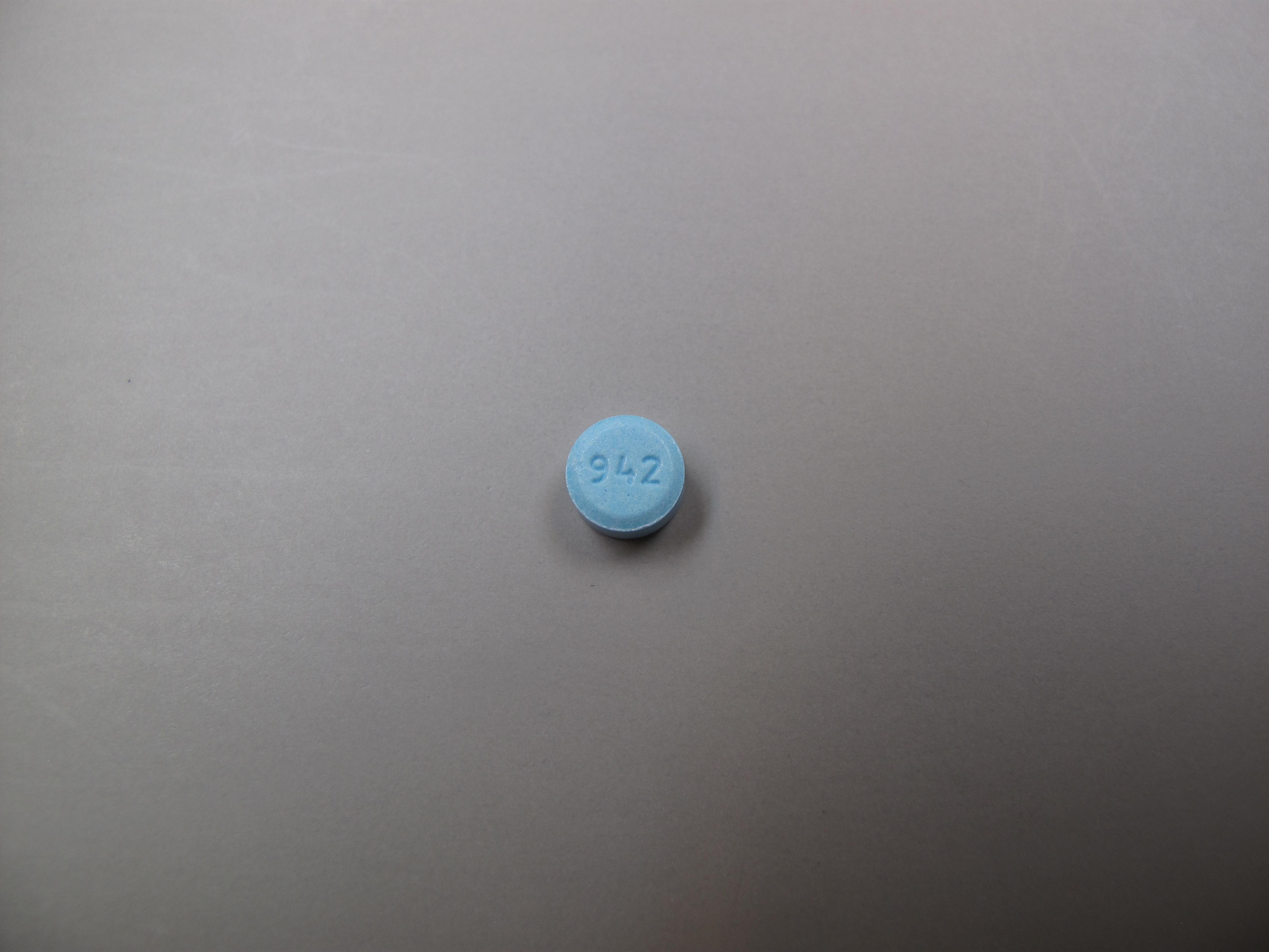Pill: (551, 406, 703, 553)
